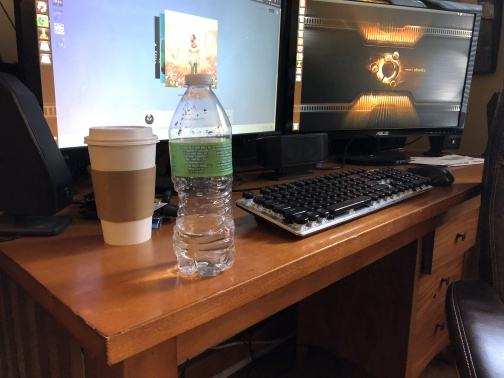bottle: (165, 71, 239, 280)
